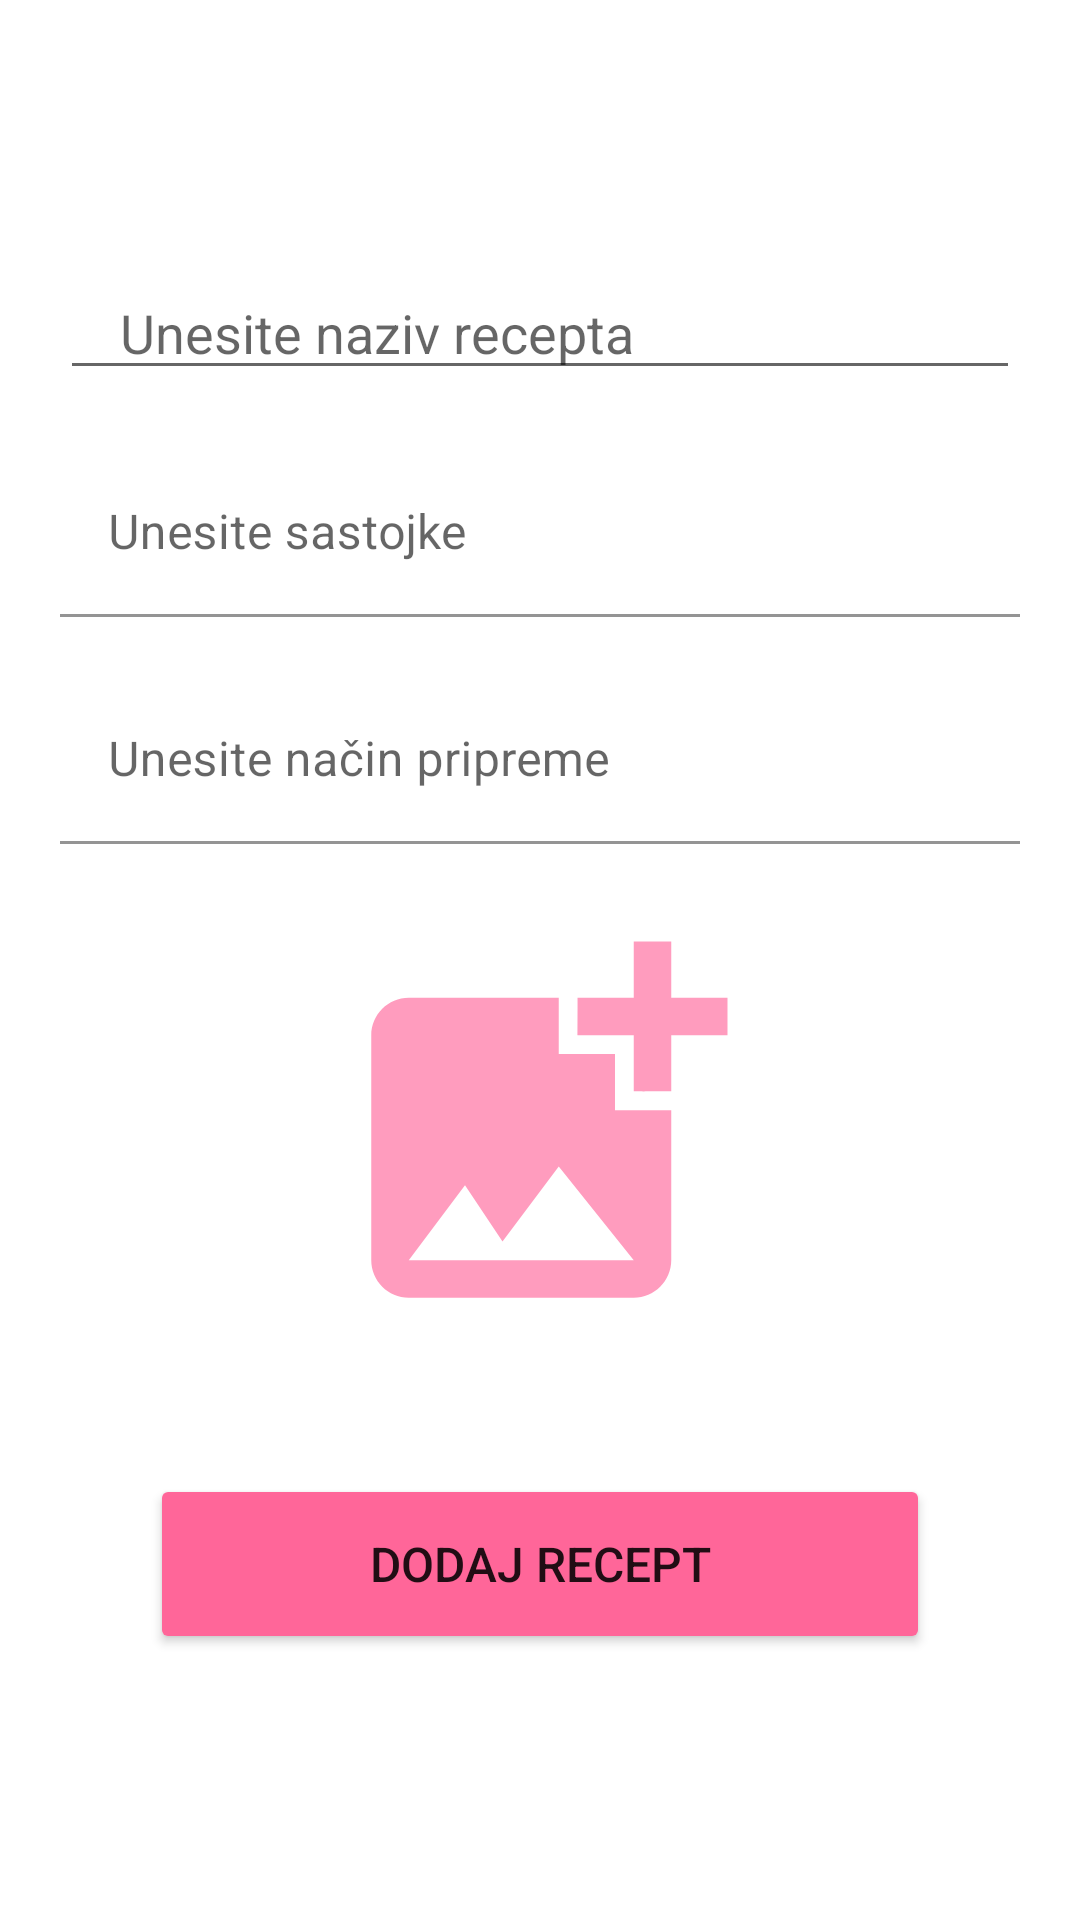

Screen size 1080 x 1920. Icon name, then its box in pixels as BBox(x1, y1, x2, y2):
add photo alternate: BBox(371, 941, 728, 1298)
